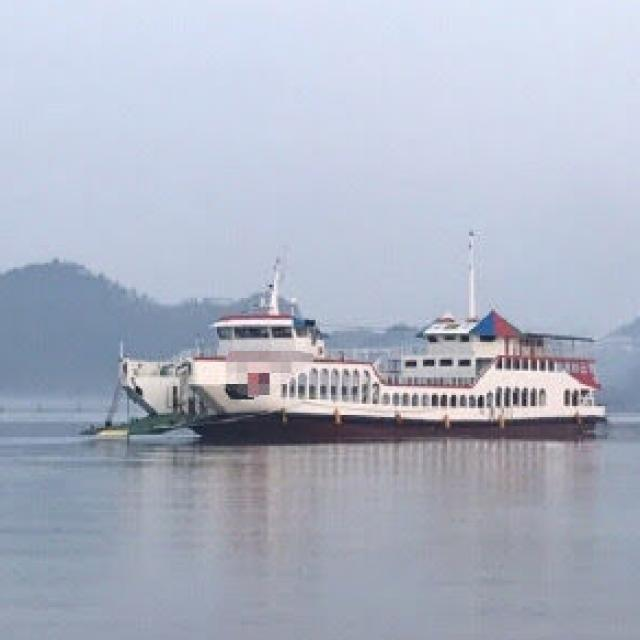passenger ship: (158, 281, 623, 434)
